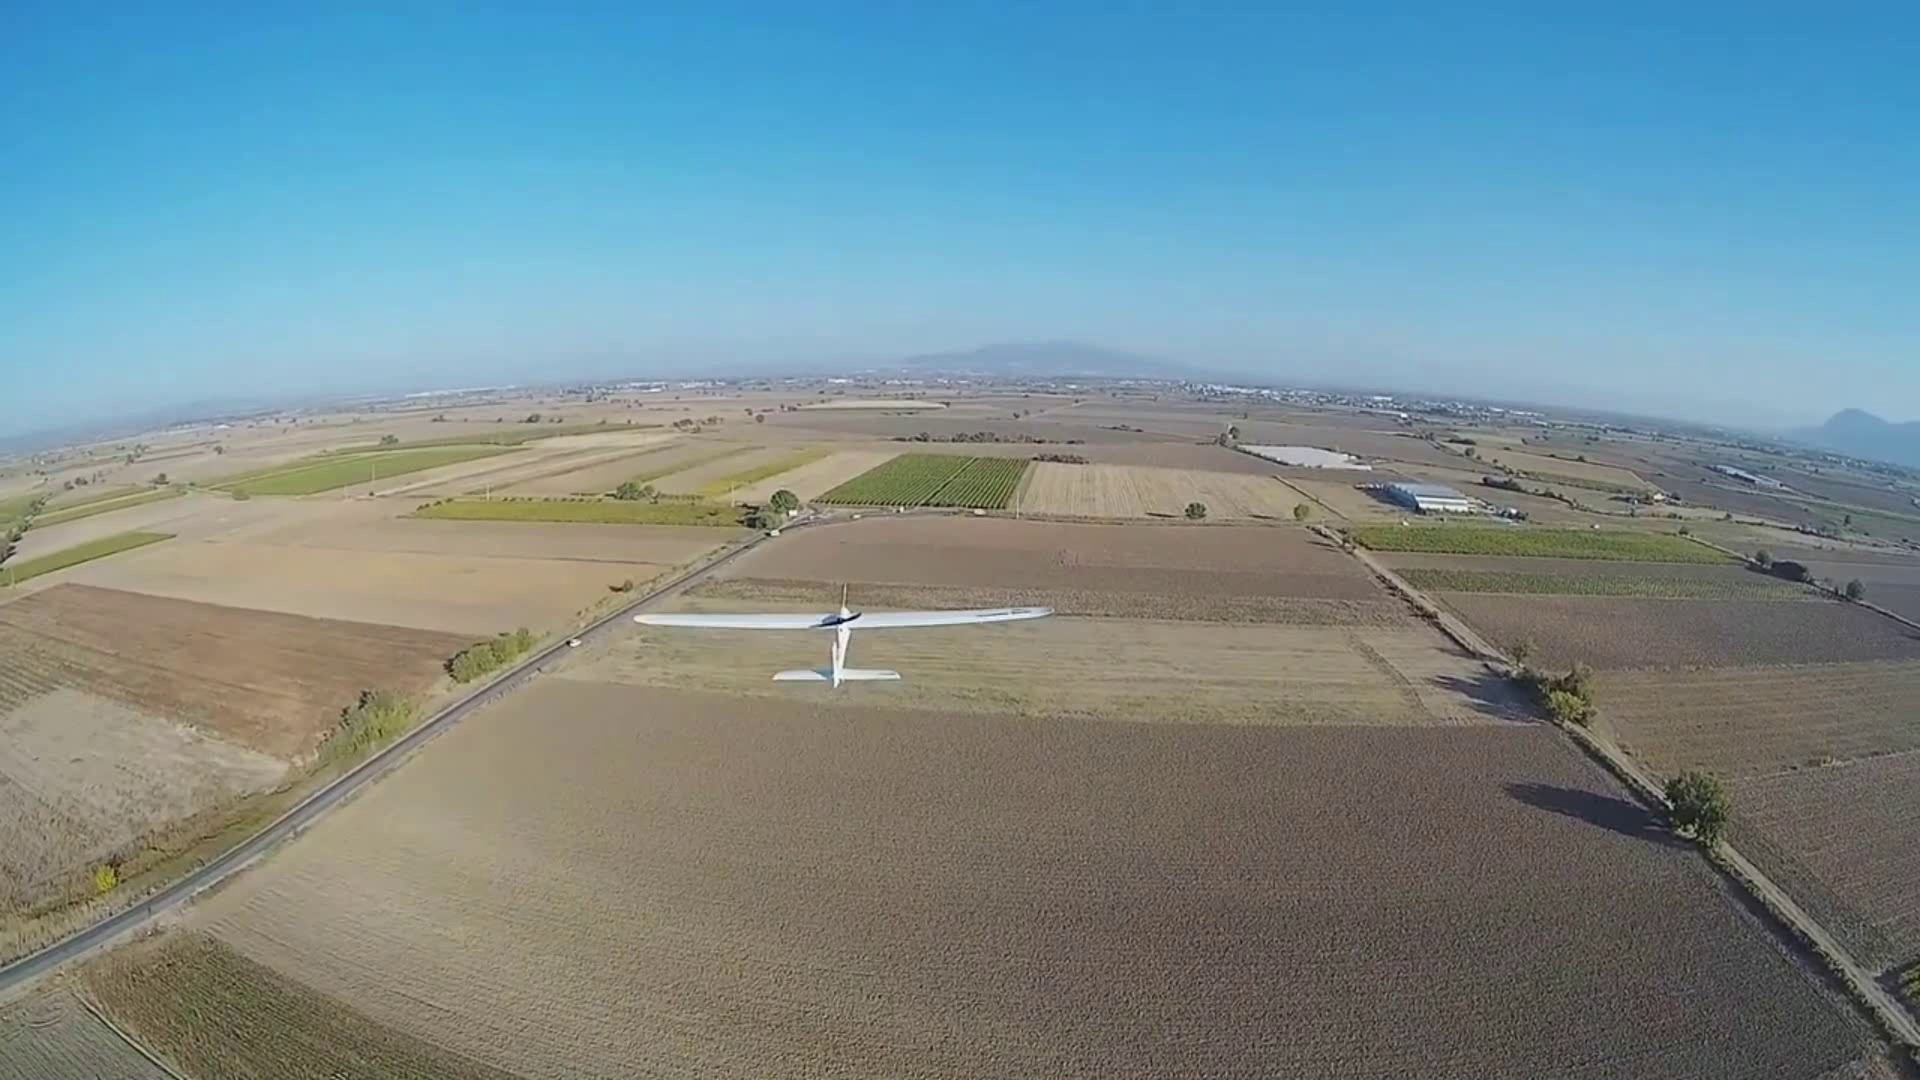airplane: (783, 607, 901, 691)
